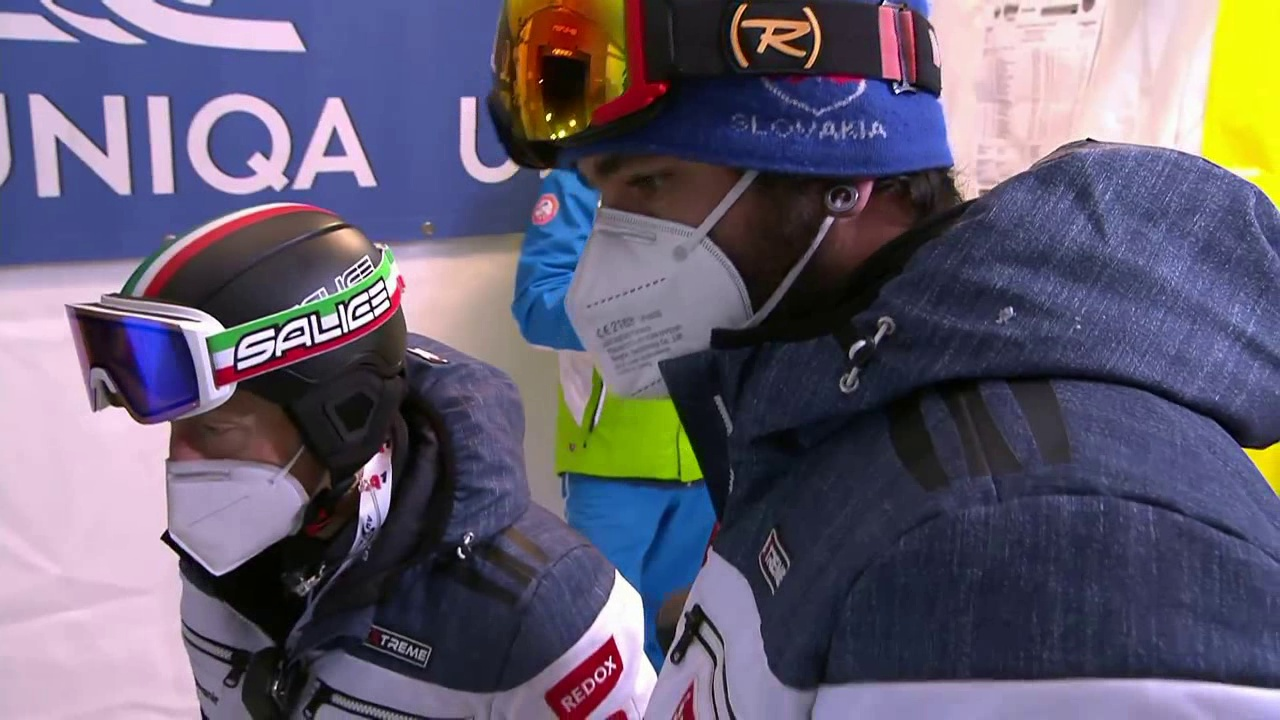audi: (367, 625, 433, 669)
